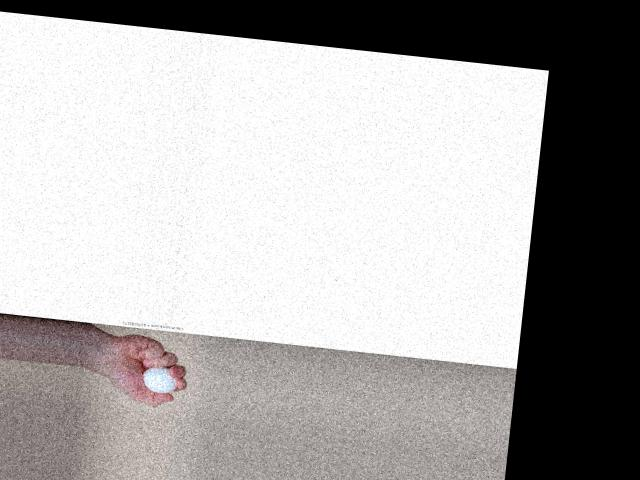egg: (140, 365, 178, 394)
